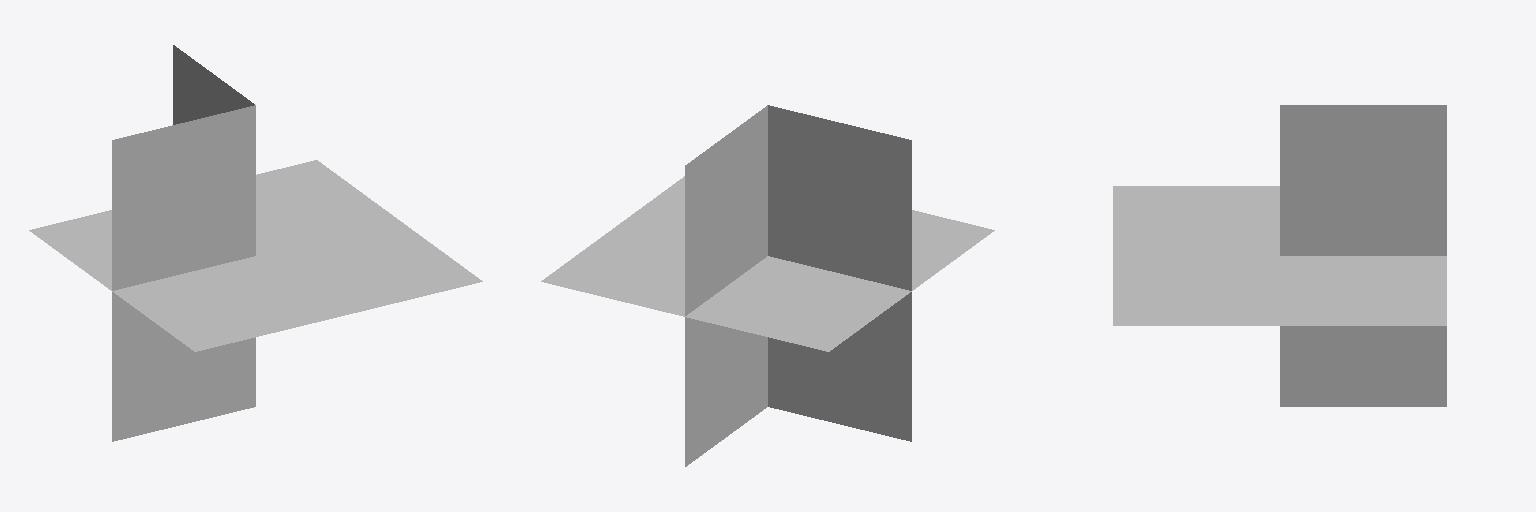
The picture shows the model from 3 angles: view 1: azimuth 30°, elevation 25°; view 2: azimuth 150°, elevation 25°; view 3: azimuth 270°, elevation 25°; orthographic projection.
Parts seen in each view (by area): view 1: 1101_0010_立方体.093; view 2: 1101_0010_立方体.093; view 3: 1101_0010_立方体.093.
Boxes of the visible parts, <box> form: 1101_0010_立方体.093: <box>29,45,482,441</box>; 1101_0010_立方体.093: <box>541,105,994,466</box>; 1101_0010_立方体.093: <box>1113,105,1446,406</box>.
Bounding box in the file's own units: 1 × 1 × 1.